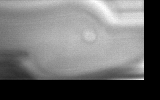cell: (79, 25, 99, 44)
